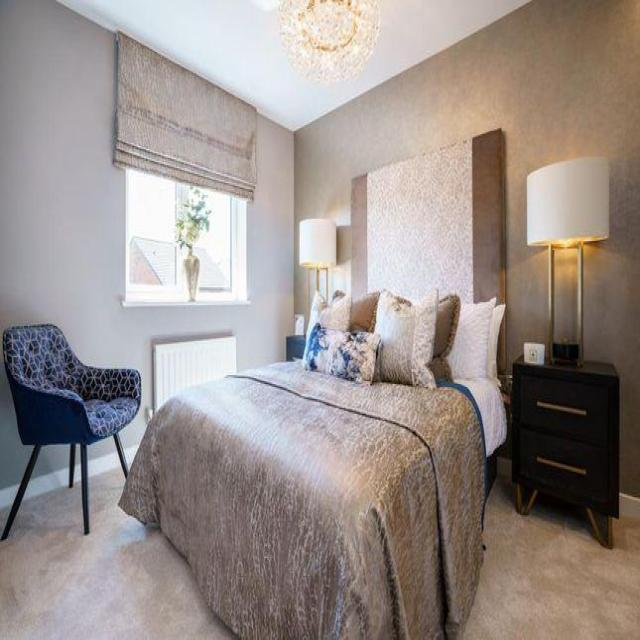Wall: (295, 0, 640, 496), (0, 0, 294, 488), (60, 0, 527, 128), (0, 469, 232, 639), (465, 476, 640, 639), (34, 447, 70, 476), (89, 442, 113, 458)
